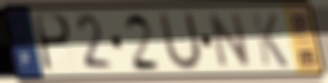2: (75, 12, 115, 75), (122, 12, 163, 72)
K: (249, 11, 291, 70)
N: (207, 11, 253, 71)
P: (34, 12, 74, 75)
U: (157, 9, 204, 74)
